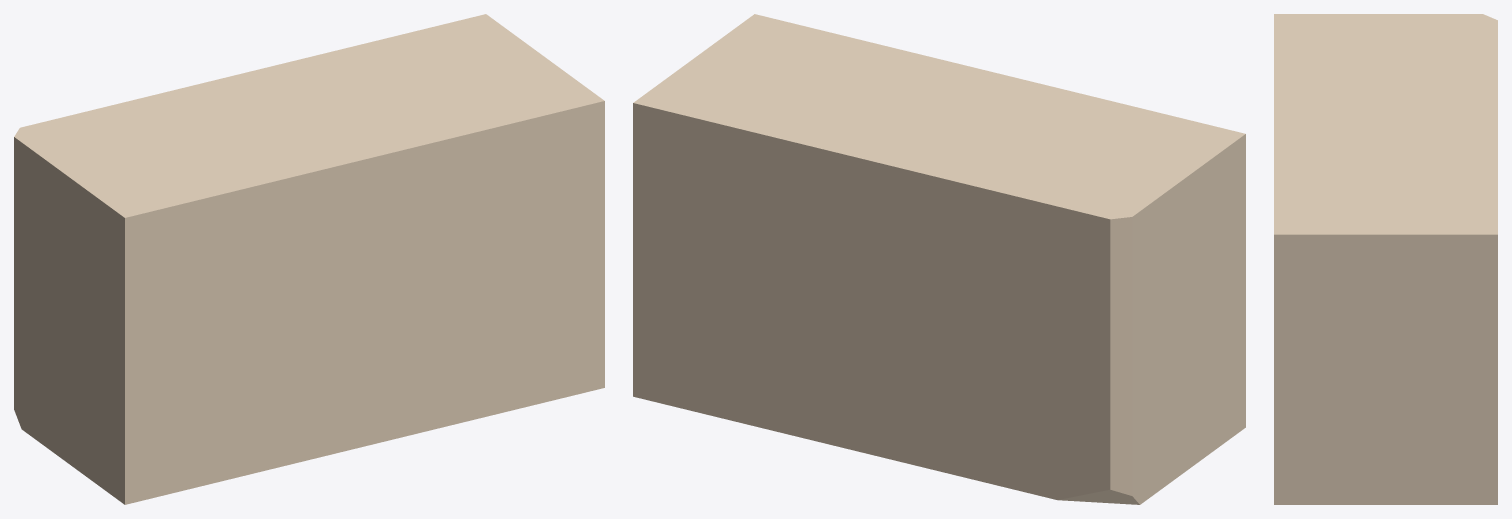
3 views of the same model, side by side, from view 1: azimuth 30°, elevation 25°; view 2: azimuth 150°, elevation 25°; view 3: azimuth 270°, elevation 25° (orthographic). The views are drawn at different scales.
Visible parts, largest first — view 1: object6; view 2: object6; view 3: object6.
Part boxes in pixels (box(x1,y1,x2,y2)): object6: box(14, 14, 604, 504); object6: box(633, 14, 1245, 504); object6: box(1274, 14, 1497, 504).
Size of the model in its own units: 0.35 by 0.2 by 0.15.
